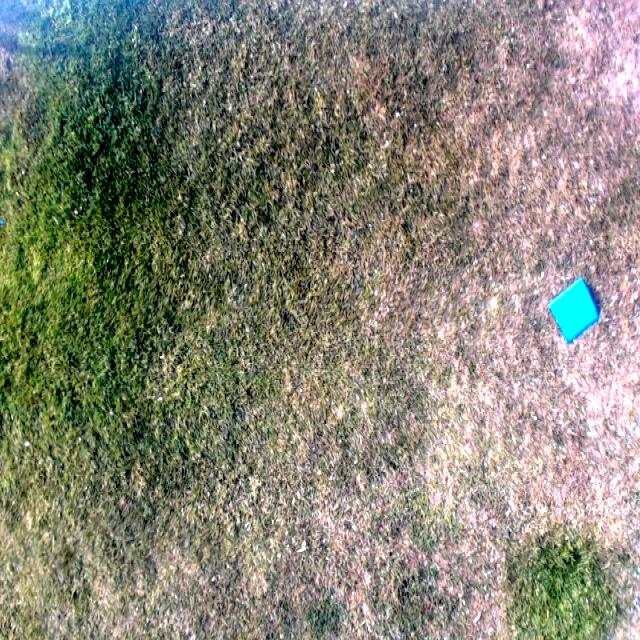blue_square: (546, 280, 602, 346)
